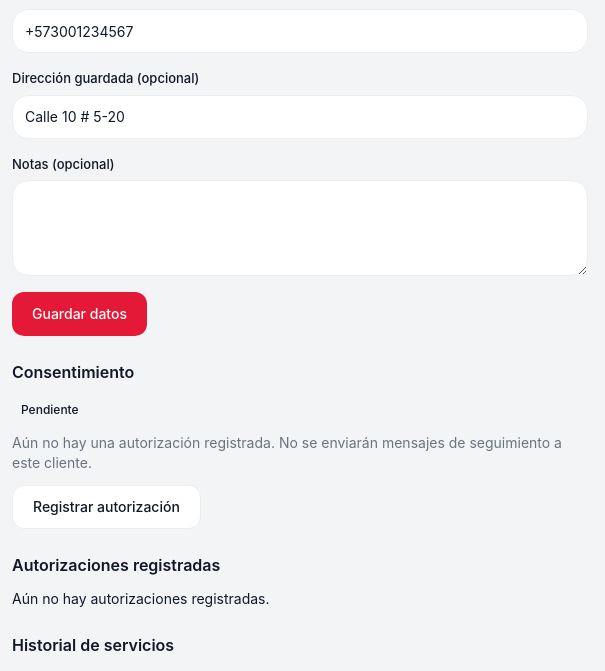
Scenario: CustomerDetailPage: edición › sin cambios no envía nada
(page scrolled)
Click the button "Guardar datos": (80,314) x1=12 y1=292 x2=147 y2=336
(page scrolled)
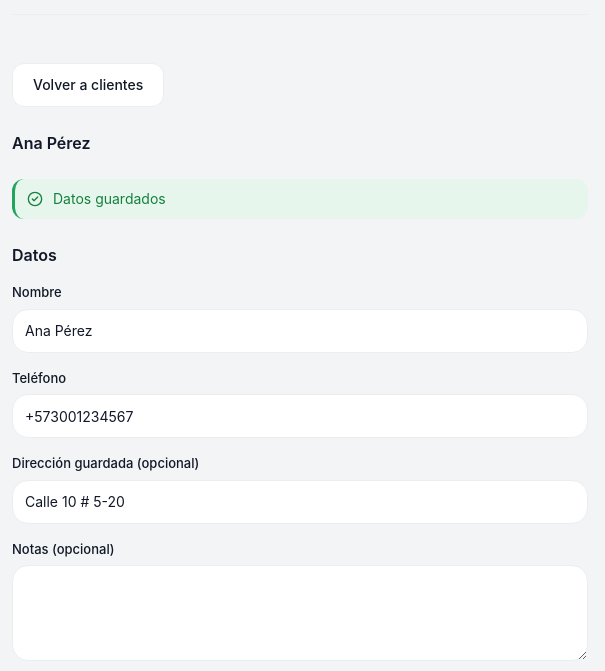
Now the text "Datos guardados" is shown, box x1=53 y1=190 x2=166 y2=207
